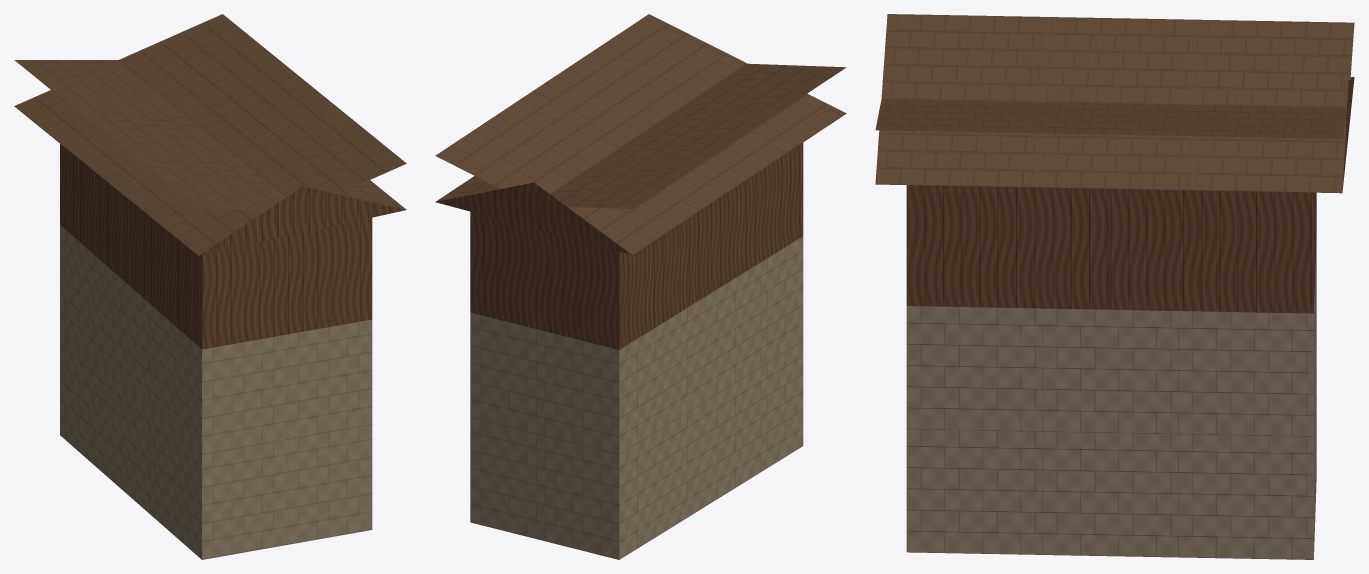
File: bld_c22_32_372.gltf
3 renders of one model, left to right at view 1: azimuth 30°, elevation 25°; view 2: azimuth 150°, elevation 25°; view 3: azimuth 270°, elevation 25°, orthographic. The views are drawn at different scales.
Parts seen in each view (by area): view 1: bld_c22_32_372; view 2: bld_c22_32_372; view 3: bld_c22_32_372.
Boxes of the visible parts, left/top/right/bottom form: bld_c22_32_372: left=14, top=14, right=406, bottom=559; bld_c22_32_372: left=435, top=14, right=846, bottom=559; bld_c22_32_372: left=875, top=14, right=1354, bottom=559.
Size of the model in its own units: 4.94 by 8 by 8.
4 materials, 4 textured.
